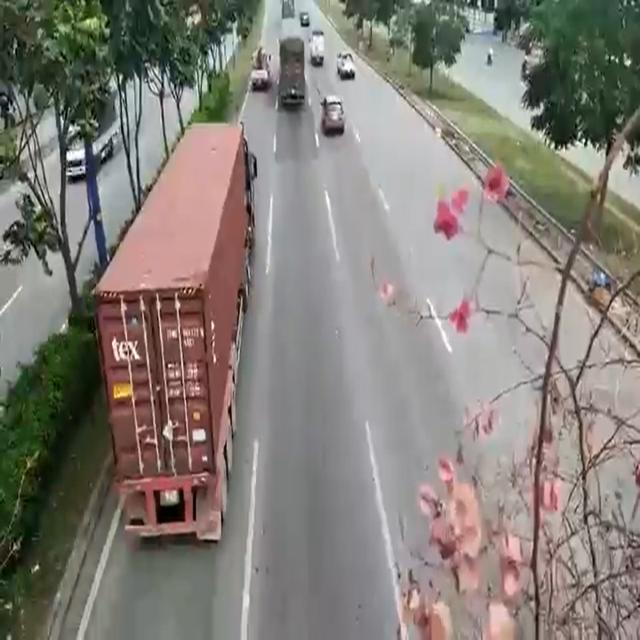car: (322, 94, 342, 137)
truck: (108, 121, 245, 550), (280, 36, 302, 106)
